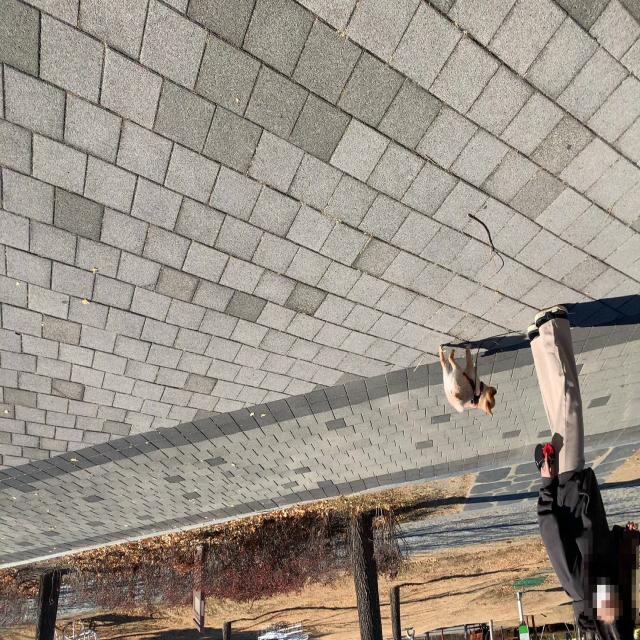Leashed_Dog: (69, 145, 202, 297)
